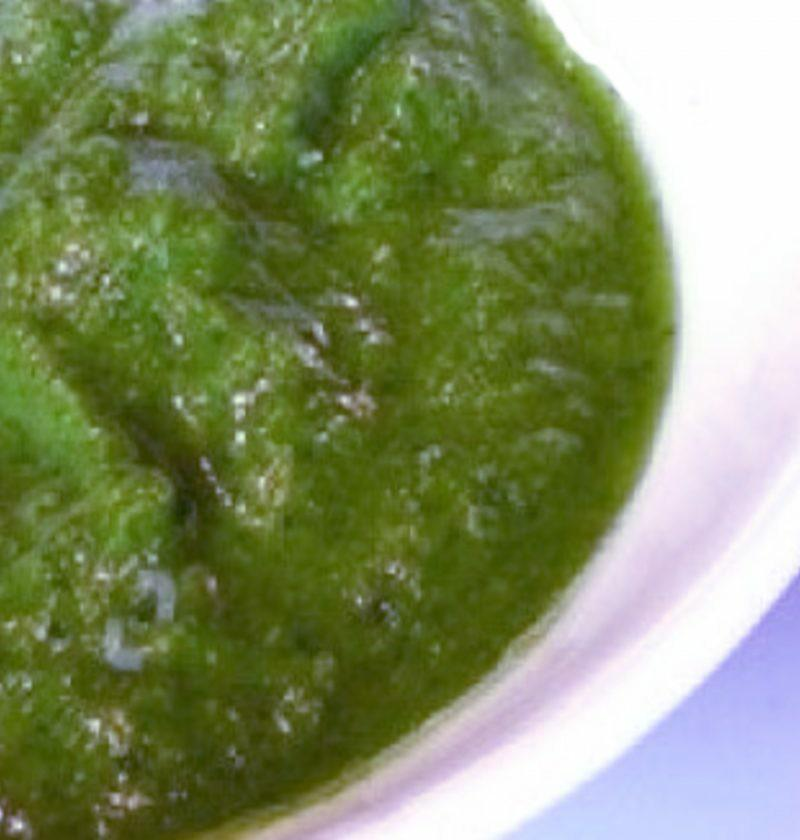GreenChutney: (0, 0, 677, 840)
